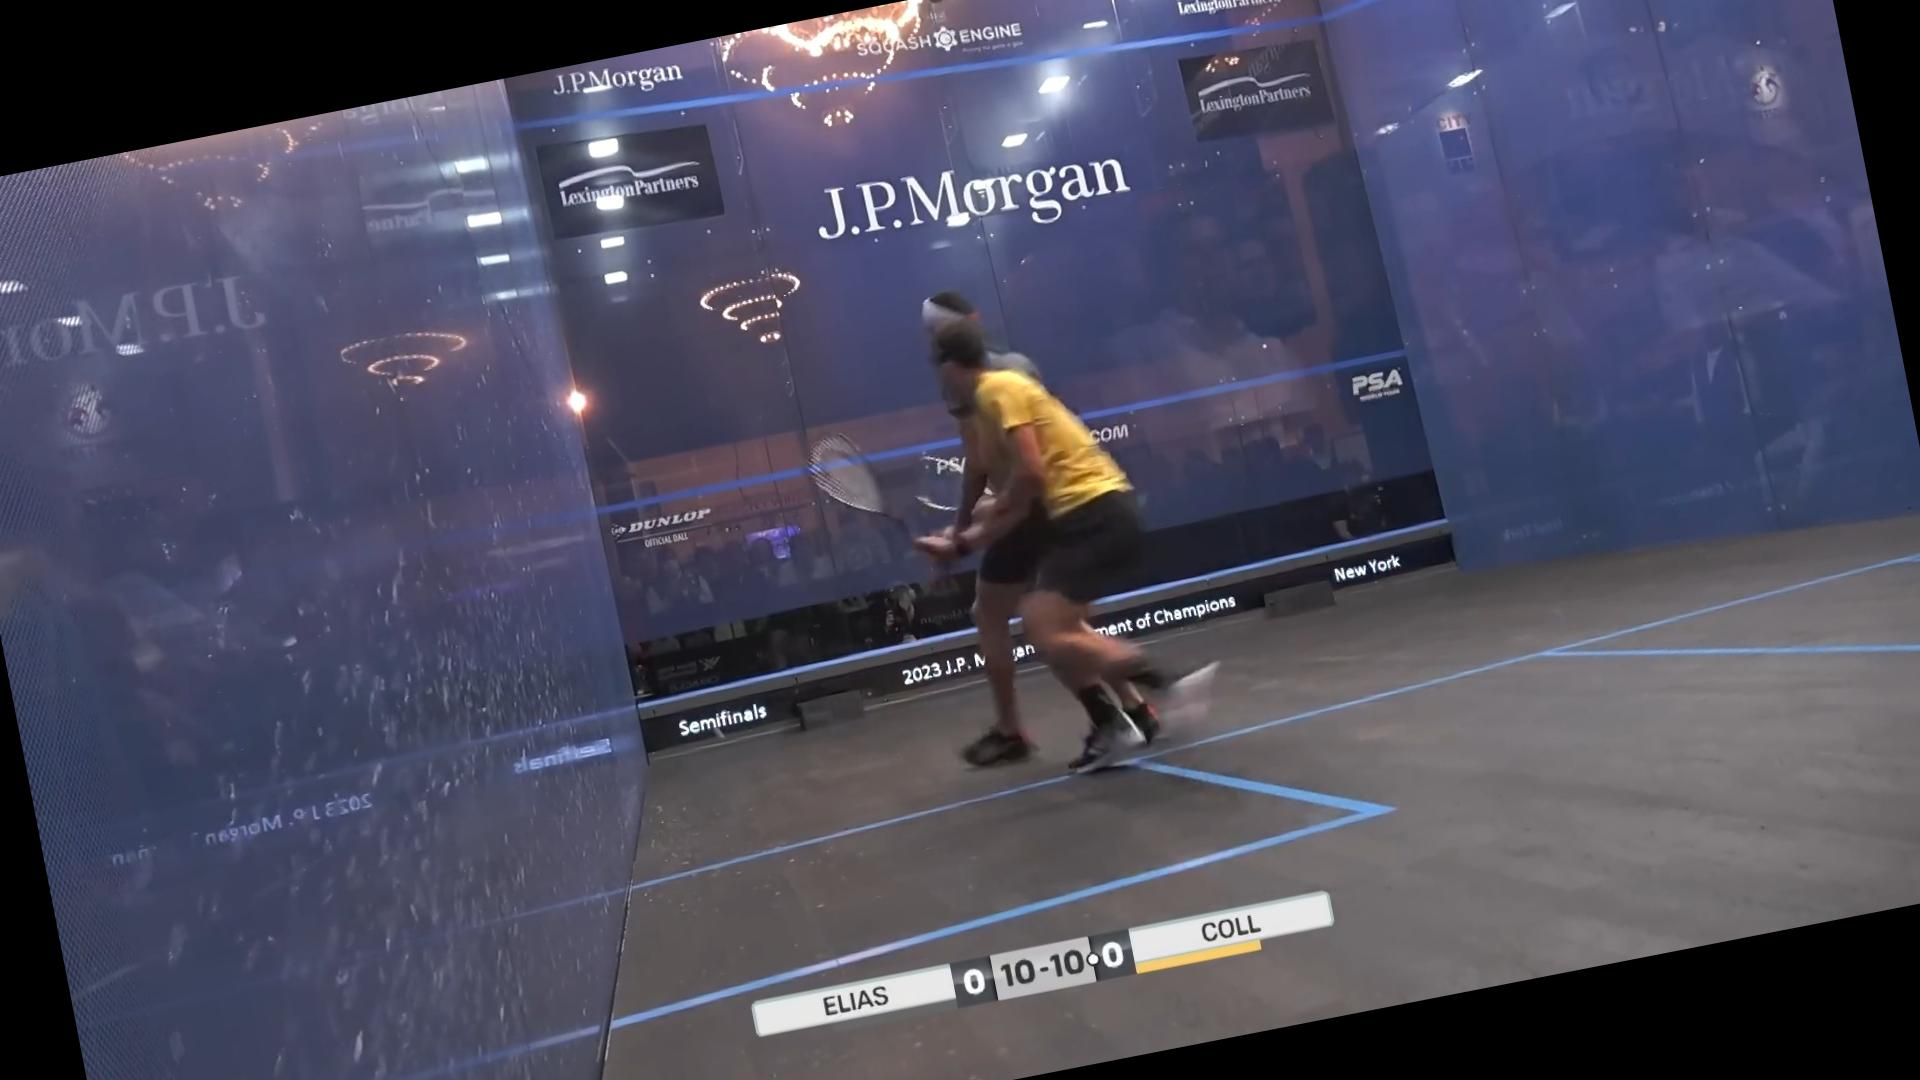Racket: (787, 415, 924, 566)
